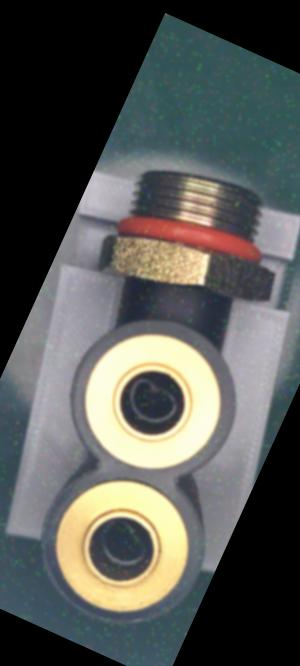off-centered: (81, 504, 161, 581), (116, 366, 191, 441)
